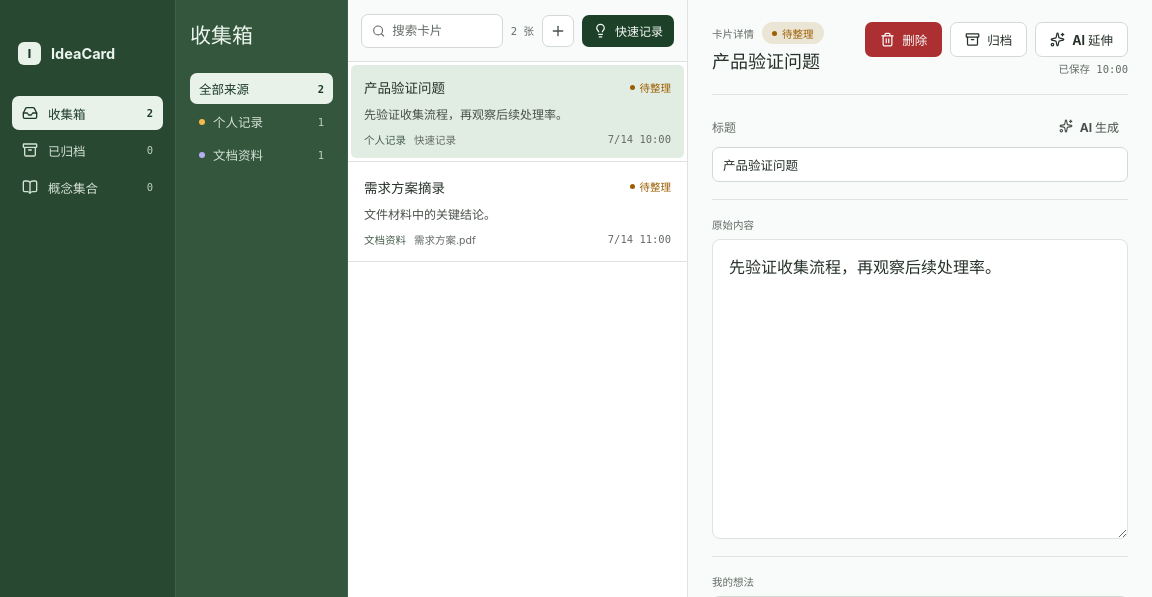
Test: InboxPage › archives the selected inbox card and moves it out of the workspace
Check: the text "产品验证问题" is shown, box x1=364 y1=80 x2=445 y2=96
What coordinates should you click on to do the following:
click the button "归档"
I would click on:
 (989, 40)
Its box is x1=950 y1=22 x2=1027 y2=57.
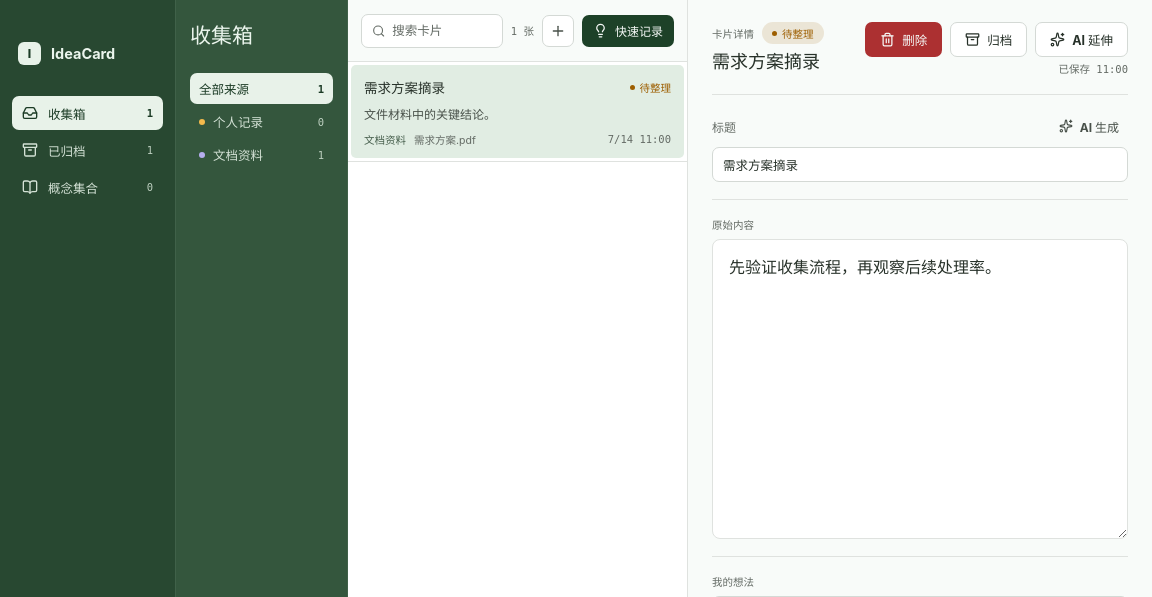
Check: the button "产品验证问题" is gone
Check: the button "收集箱 1" is shown, box x1=12 y1=96 x2=163 y2=130
Check: the button "已归档 1" is shown, box x1=12 y1=133 x2=163 y2=167
